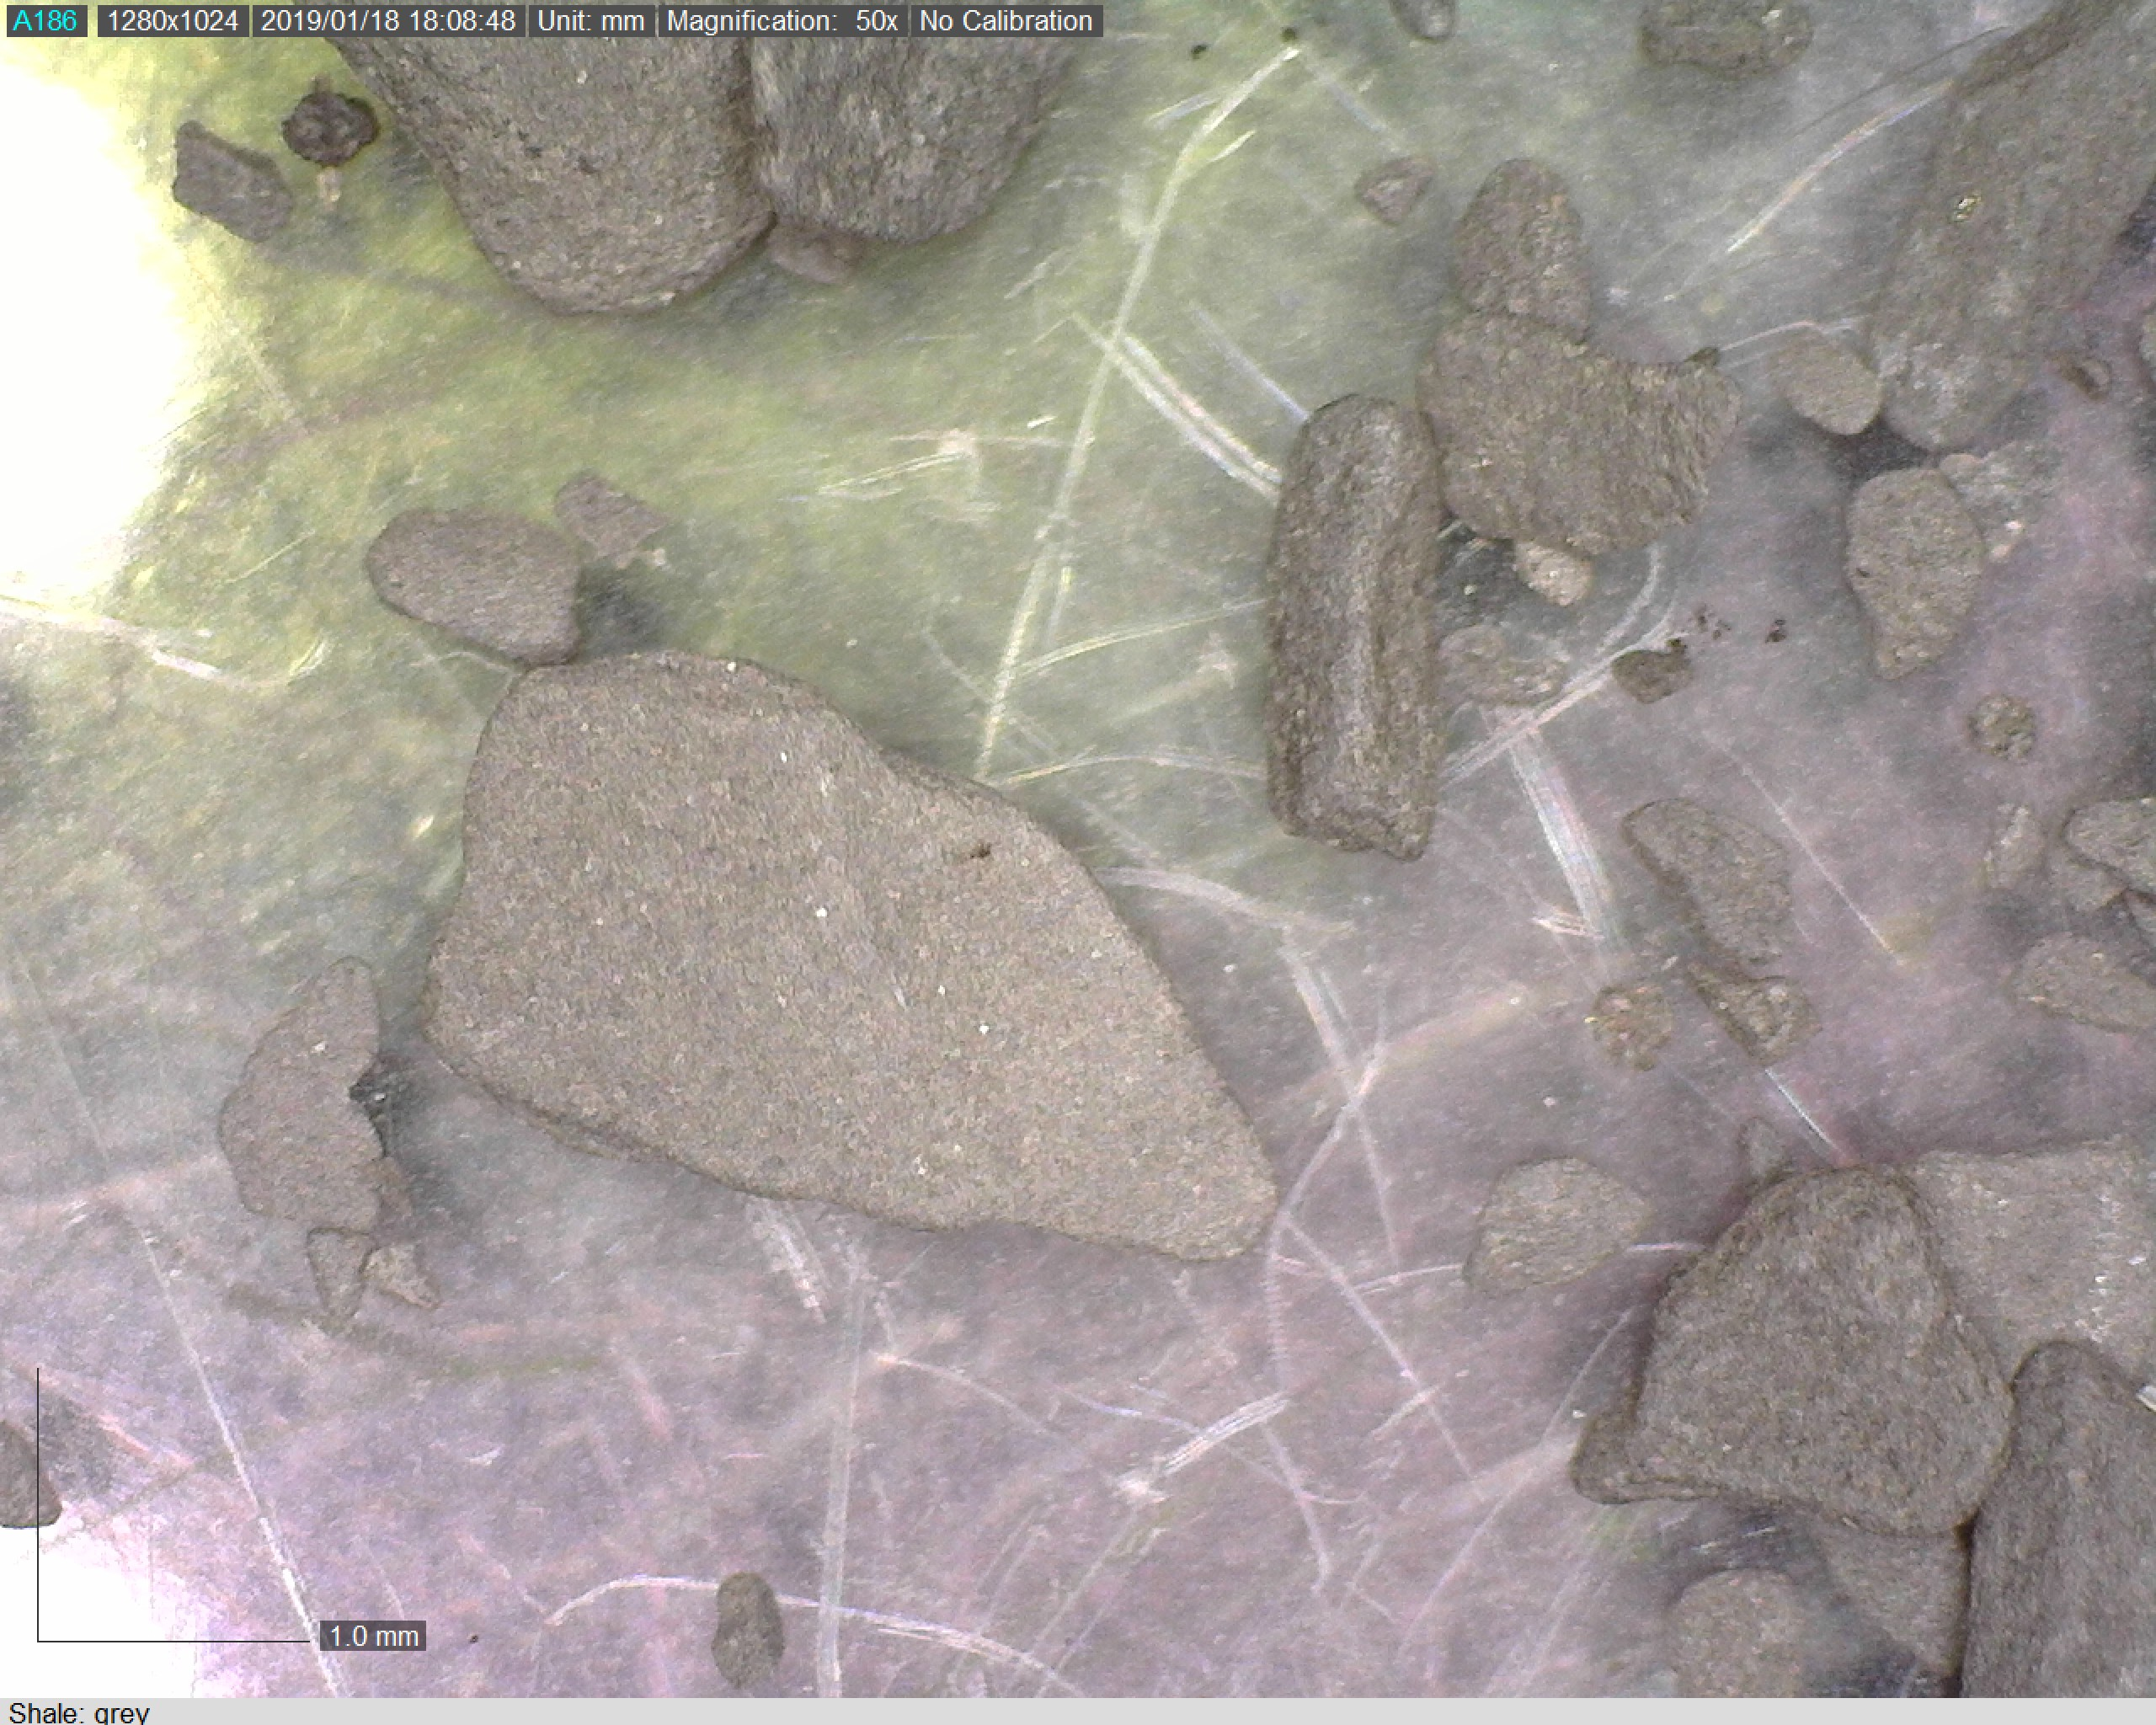Shale: (422, 642, 1278, 1264), (1621, 1156, 2010, 1526), (1255, 391, 1445, 864), (206, 952, 387, 1241)
